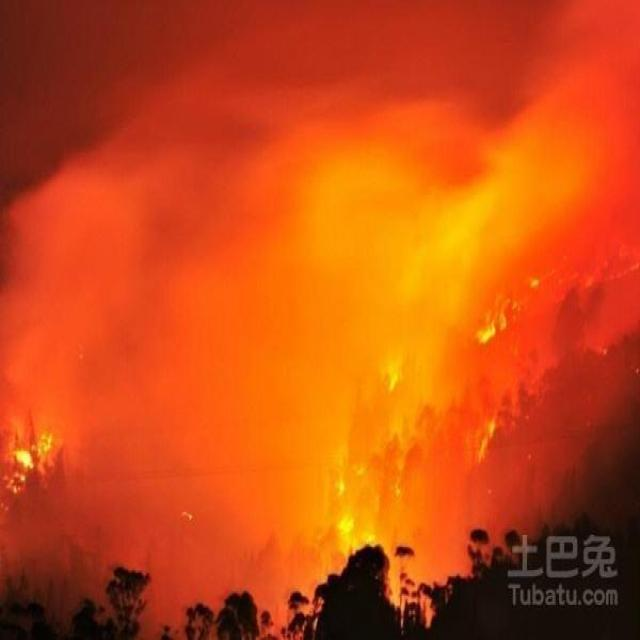fire: (310, 272, 548, 585), (3, 388, 62, 508)
smoke: (8, 11, 616, 424)
